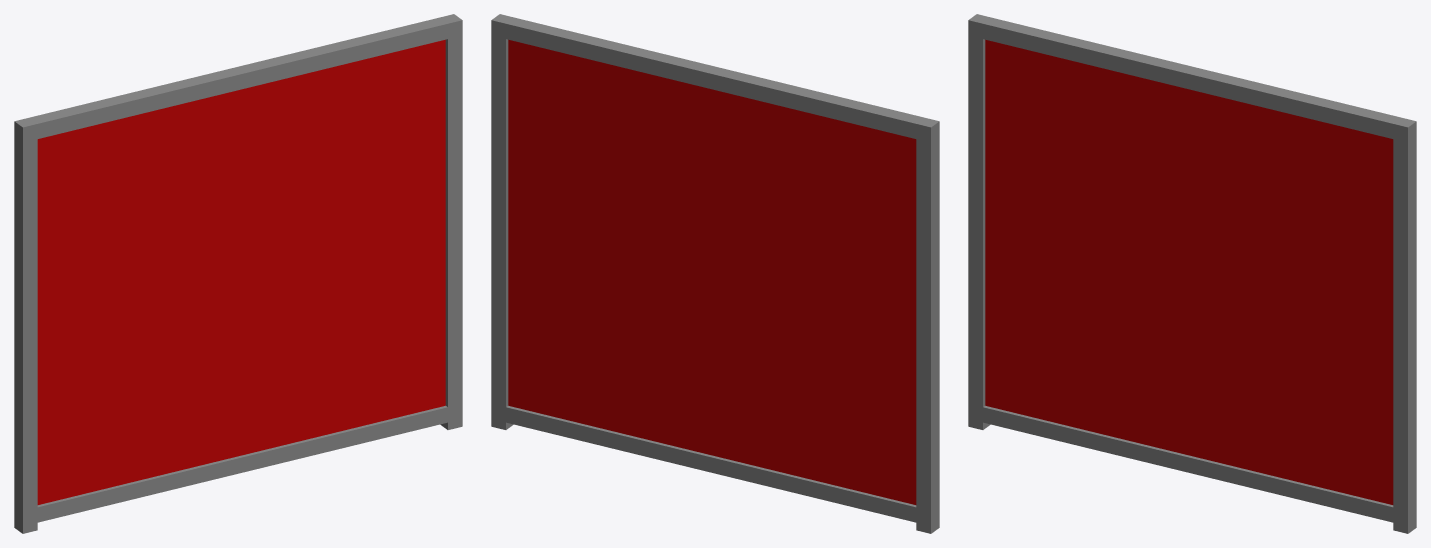
The model's file is Prop_Industrial_Temporary_Lab_Office_Wall_02.FBX.
The picture shows the model from 3 angles, left to right: view 1: azimuth 30°, elevation 25°; view 2: azimuth 150°, elevation 25°; view 3: azimuth 330°, elevation 25°; orthographic projection.
Visible parts, largest first — view 1: Prop_Industrial_Temporary_Lab_Office_Wall_02; view 2: Prop_Industrial_Temporary_Lab_Office_Wall_02; view 3: Prop_Industrial_Temporary_Lab_Office_Wall_02.
Part boxes in pixels (<box>): Prop_Industrial_Temporary_Lab_Office_Wall_02: <box>14,14,462,533</box>; Prop_Industrial_Temporary_Lab_Office_Wall_02: <box>491,14,939,533</box>; Prop_Industrial_Temporary_Lab_Office_Wall_02: <box>968,14,1416,533</box>.
Size of the model in its own units: 3000 by 2650 by 100.
